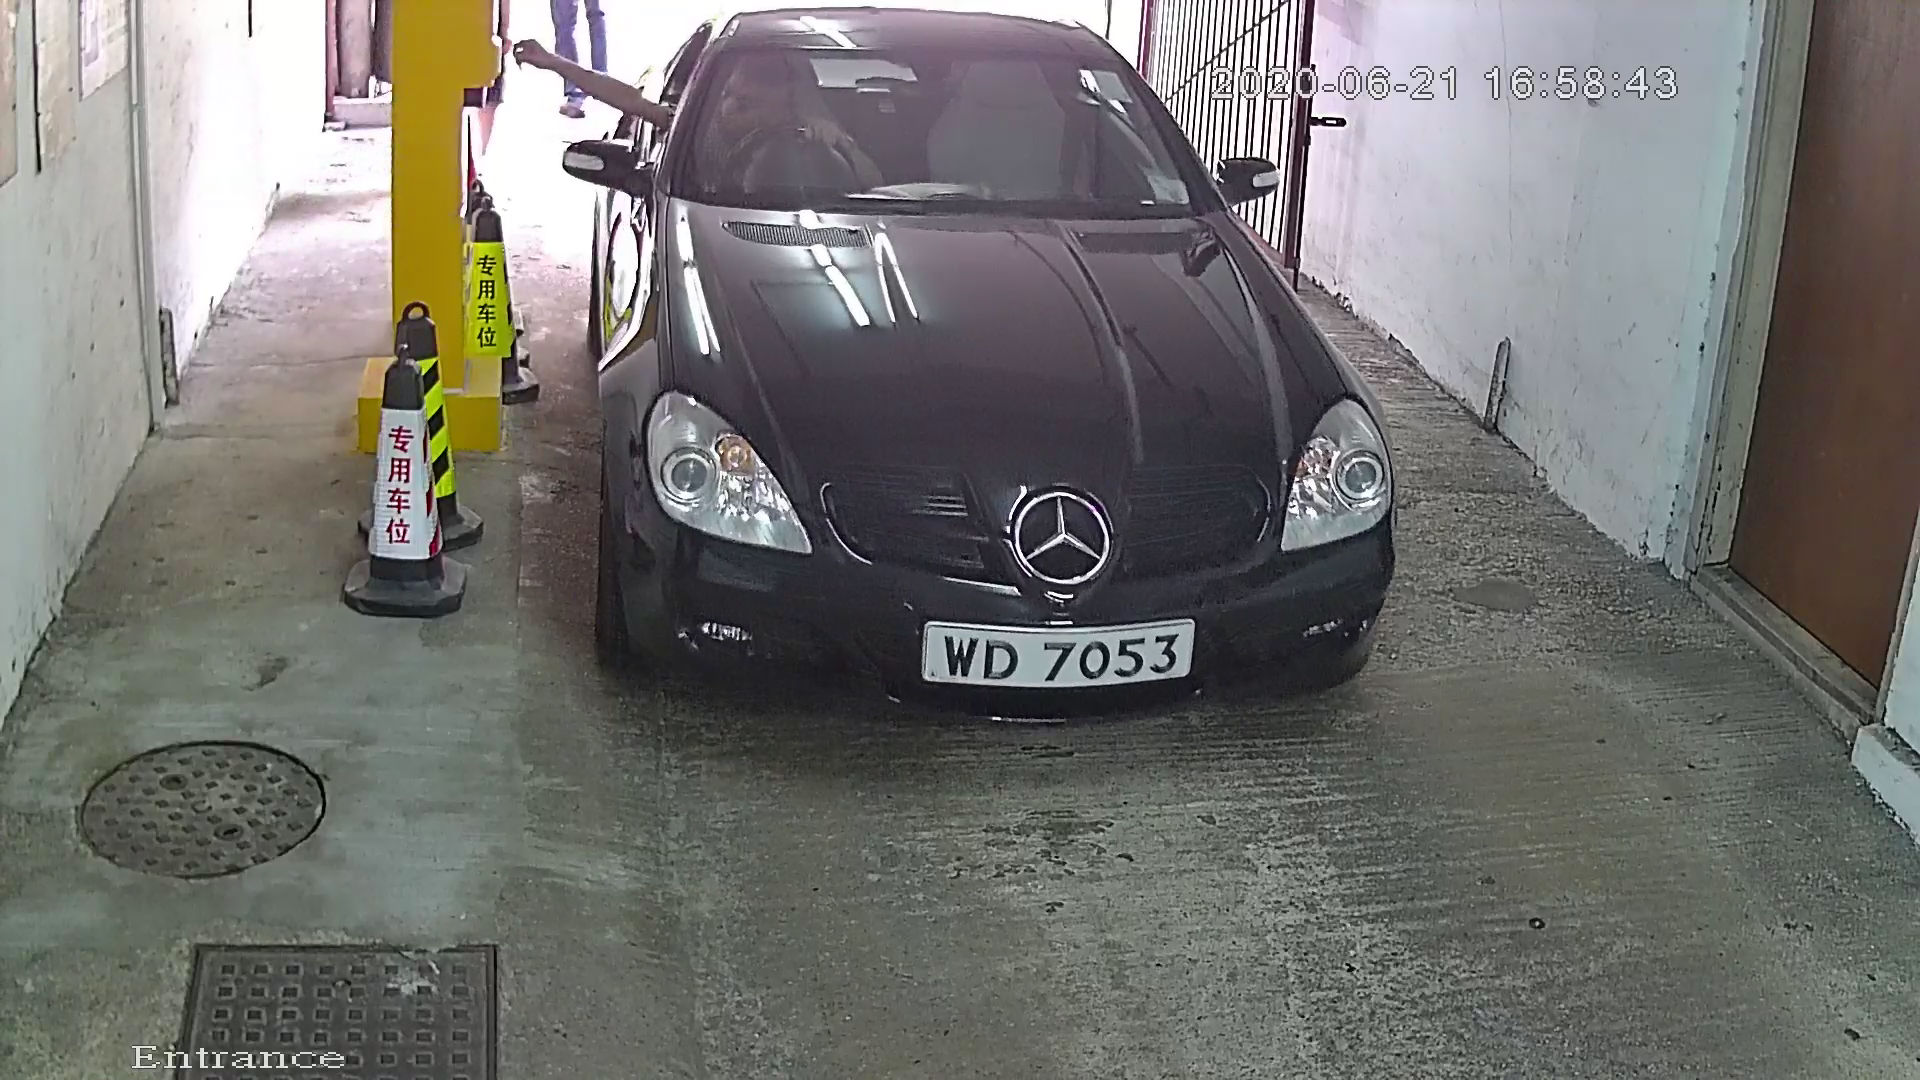privatecar: (537, 3, 1468, 808)
